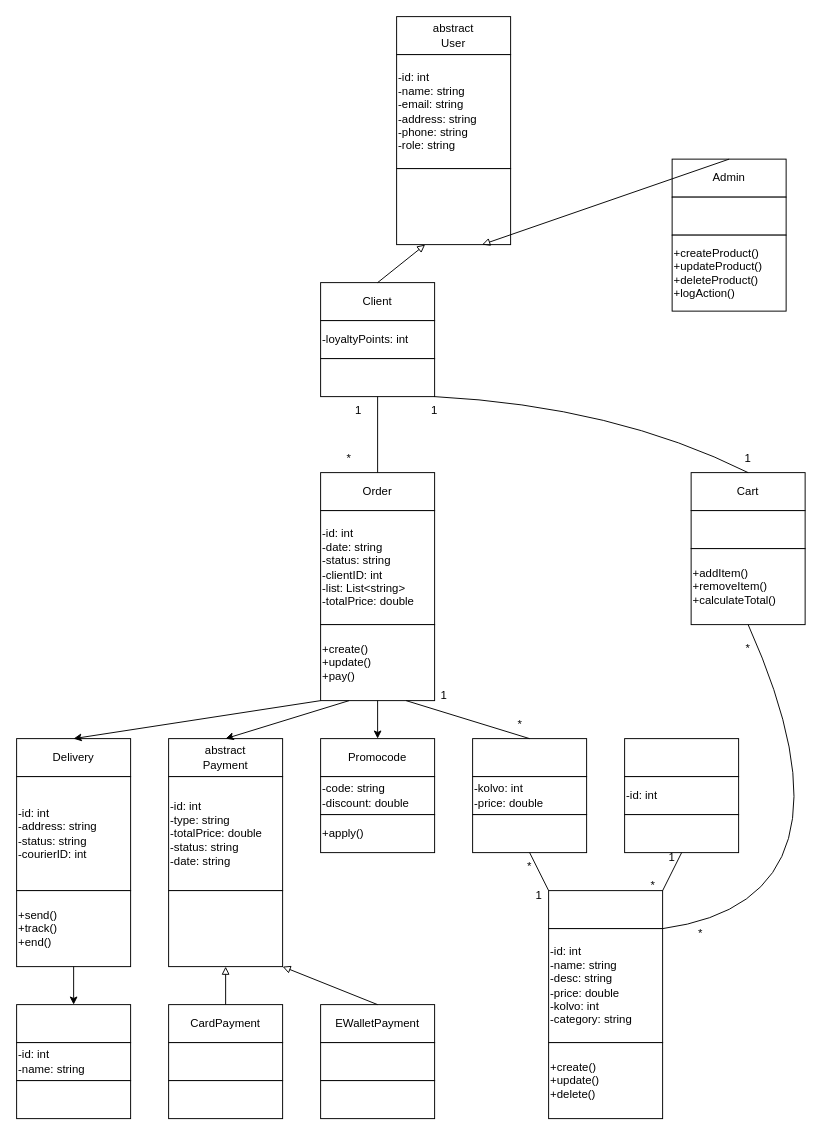
This 822x1135 diagram has some shape labels left out. Here are the shapes that lost their labels. From the top down, the box of each, then its label:
(396, 168, 511, 245): +register() +login() +update()
(320, 358, 435, 397): +addOrder() +addPoints()
(472, 738, 587, 777): OrderItem
(624, 738, 739, 777): Sklad
(168, 890, 283, 967): +process() +refund()
(548, 890, 663, 929): Item
(16, 1004, 131, 1043): Courier
